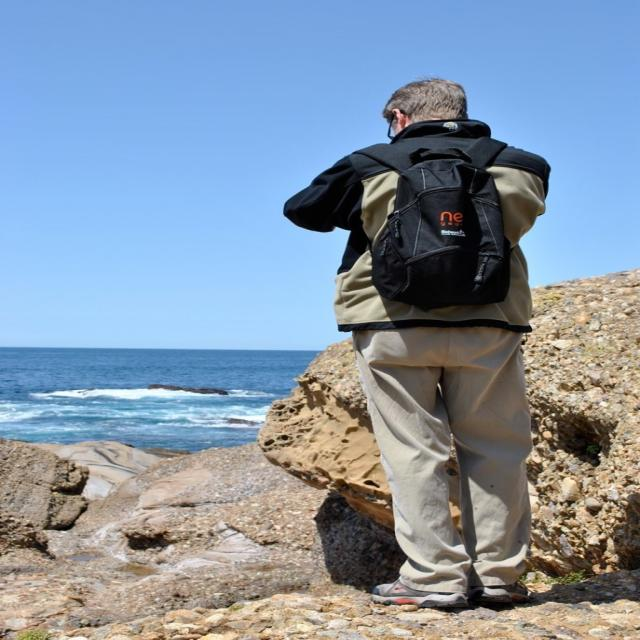backpack: (342, 138, 509, 307)
